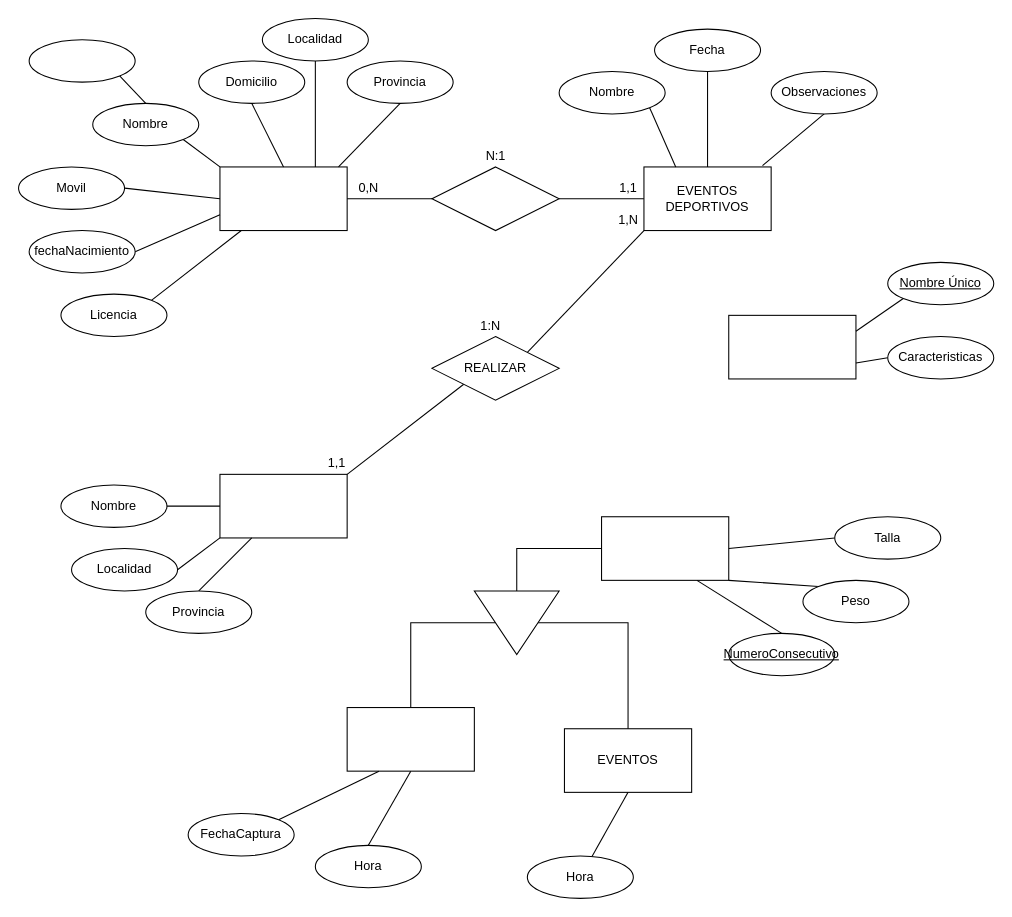
Image size: 1012x917. Some labels were removed from this diagram. The centre of each missing label's shape, as x and y in pixels:
(D,T): point 516,622
AFILIADOS: point 283,198
Apellidos: point 81,60
CAPTURA: point 664,548
CONCOCER: point 495,198
LUGAR: point 283,505
PARTICULARES: point 410,738
PECES: point 792,346
